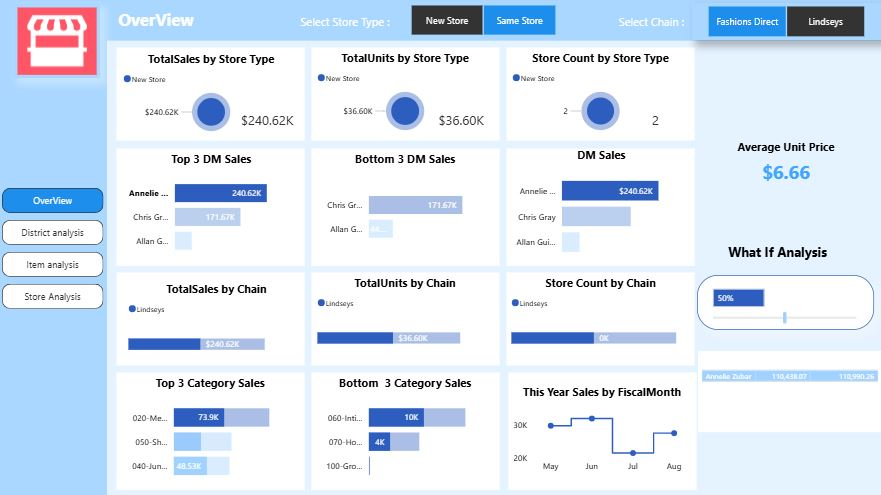

The dashboard page shown, as its layout file describes it:
{"tool":"powerbi","page":{"name":"OverView","canvas":[1280,720],"ordinal":0},"visuals":[{"type":"actionButton","box":[146.3,0,161.3,57.6],"z":0,"group":"g1"},{"type":"shape","box":[157,0,1674.7,60.5],"z":0},{"type":"shape","box":[0,0,157,1399.7],"z":1000},{"type":"group","id":"g1","title":"Group 5","box":[146.3,0,161.2,56.7],"z":2000},{"type":"image","box":[165.6,65.4,280.6,144.2],"z":3000},{"type":"image","box":[446.2,65.4,280.6,144.2],"z":4000},{"type":"image","box":[726.8,65.4,280.6,144.2],"z":5000},{"type":"image","box":[165.6,388.7,280.6,144.2],"z":6000},{"type":"image","box":[446.2,388.7,280.6,144.2],"z":7000},{"type":"image","box":[726.8,388.7,280.6,144.2],"z":8000},{"type":"pieChart","fields":{"Y":["Sales.TotalSales"],"Category":["Store.Store Type"]},"box":[175.8,74.4,262.5,127.3],"z":9000},{"type":"card","fields":{"Values":["Sales.TotalSales"]},"box":[336.9,149.9,101.4,51.8],"z":10000},{"type":"pieChart","fields":{"Category":["Store.Store Type"],"Y":["Sales.TotalUnits"]},"box":[455.2,73.2,262.5,127.3],"z":11000},{"type":"card","fields":{"Values":["Sales.TotalUnits"]},"box":[616.3,149.9,101.4,51.8],"z":12000},{"type":"pieChart","fields":{"Category":["Store.Store Type"],"Y":["Sales.Store Count"]},"box":[735.8,73.2,263.7,127.3],"z":13000},{"type":"image","box":[165.6,209.6,280.6,179.2],"z":14000},{"type":"image","box":[165.6,533,280.6,179.2],"z":15000},{"type":"image","box":[446.2,209.6,280.6,179.2],"z":16000},{"type":"image","box":[726.8,209.6,280.6,179.2],"z":17000},{"type":"image","box":[446.2,533,280.6,179.2],"z":18000},{"type":"image","box":[729.9,532.9,280.6,178.6],"z":19000},{"type":"card","fields":{"Values":["Sales.Store Count"]},"box":[894.6,149.9,104.8,51.8],"z":20000},{"type":"clusteredBarChart","title":"Top 3 DM Sales","fields":{"Category":["District.DM"],"Y":["Sales.Top 5 Sales"]},"box":[175.8,218.6,262.5,162.3],"z":21000},{"type":"clusteredBarChart","title":"Bottom 3 DM Sales","fields":{"Category":["District.DM"],"Y":["Sales.Bottom 3 Sales"]},"box":[455.2,218.6,262.5,162.3],"z":22000},{"type":"clusteredBarChart","title":"DM Sales","fields":{"Category":["District.DM"],"Y":["Sales.TotalSales"]},"box":[730.1,213,277.2,172.4],"z":23000},{"type":"barChart","fields":{"Y":["Sales.TotalSales"],"Series":["Store.Chain"]},"box":[182.9,406.1,263.5,126.7],"z":24000},{"type":"barChart","fields":{"Series":["Store.Chain"],"Y":["Sales.TotalUnits"]},"box":[455.2,397.7,262.5,126.2],"z":25000},{"type":"barChart","fields":{"Series":["Store.Chain"],"Y":["Sales.Store Count"]},"box":[735,397.7,267,126.2],"z":26000},{"type":"clusteredBarChart","title":"Top 3 Category Sales","fields":{"Category":["Item.Category"],"Y":["Sales.Top 3 Category Sales"]},"box":[174.6,540.8,262.5,164.5],"z":27000},{"type":"clusteredBarChart","title":"Bottom  3 Category Sales","fields":{"Category":["Item.Category"],"Y":["Sales.Bottom 3 Category Sales"]},"box":[455.2,540.8,262.5,164.5],"z":28000},{"type":"card","title":"Average Unit Price","fields":{"Values":["Sales.Average Unit Price"]},"box":[1008,201.6,253.4,74.9],"z":29000},{"type":"slicer","fields":{"Values":["What If.What If"]},"box":[1006.6,397.4,254.9,79.2],"z":30000},{"type":"tableEx","fields":{"Values":["District.DM","Sales.This Year Sales","What If.Predicted Revenue"]},"box":[1008,506.9,272.2,116.6],"z":31000},{"type":"textbox","box":[995,347,254.9,59],"z":32000},{"type":"slicer","fields":{"Values":["Store.Chain"]},"box":[999.4,5.8,272.2,53.3],"z":33000},{"type":"textbox","box":[810.7,17.3,260.6,41.8],"z":34000},{"type":"textbox","box":[360,17.3,279.4,47.5],"z":35000},{"type":"slicer","fields":{"Values":["Store.Store Type"]},"box":[571.7,4.3,254.9,51.8],"z":36000},{"type":"lineChart","fields":{"Category":["select"],"Y":["select2"]},"box":[737,554.2,265,136.1],"z":37000},{"type":"pageNavigator","box":[5.8,272.2,146.9,175.7],"z":38000},{"type":"image","box":[23,7.2,123.8,106.6],"z":39000}]}

Visuals, with their boxes on the page's 1280x720 design canvas (x1, y1, x2, y2). These are canvas units, not pixel positions in the 881x495 screenshot, which may show the page scaled, cropped or inside an application window:
actionButton: (146, 0, 308, 58)
shape: (157, 0, 1832, 60)
shape: (0, 0, 157, 1400)
"Group 5" group: (146, 0, 308, 57)
image: (166, 65, 446, 210)
image: (446, 65, 727, 210)
image: (727, 65, 1007, 210)
image: (166, 389, 446, 533)
image: (446, 389, 727, 533)
image: (727, 389, 1007, 533)
pieChart - Sales.TotalSales x Store.Store Type: (176, 74, 438, 202)
card - Sales.TotalSales: (337, 150, 438, 202)
pieChart - Store.Store Type x Sales.TotalUnits: (455, 73, 718, 200)
card - Sales.TotalUnits: (616, 150, 718, 202)
pieChart - Store.Store Type x Sales.Store Count: (736, 73, 1000, 200)
image: (166, 210, 446, 389)
image: (166, 533, 446, 712)
image: (446, 210, 727, 389)
image: (727, 210, 1007, 389)
image: (446, 533, 727, 712)
image: (730, 533, 1010, 712)
card - Sales.Store Count: (895, 150, 999, 202)
"Top 3 DM Sales" clusteredBarChart: (176, 219, 438, 381)
"Bottom 3 DM Sales" clusteredBarChart: (455, 219, 718, 381)
"DM Sales" clusteredBarChart: (730, 213, 1007, 385)
barChart - Sales.TotalSales x Store.Chain: (183, 406, 446, 533)
barChart - Store.Chain x Sales.TotalUnits: (455, 398, 718, 524)
barChart - Store.Chain x Sales.Store Count: (735, 398, 1002, 524)
"Top 3 Category Sales" clusteredBarChart: (175, 541, 437, 705)
"Bottom  3 Category Sales" clusteredBarChart: (455, 541, 718, 705)
"Average Unit Price" card: (1008, 202, 1261, 276)
slicer - What If.What If: (1007, 397, 1262, 477)
tableEx - District.DM x Sales.This Year Sales: (1008, 507, 1280, 624)
textbox: (995, 347, 1250, 406)
slicer - Store.Chain: (999, 6, 1272, 59)
textbox: (811, 17, 1071, 59)
textbox: (360, 17, 639, 65)
slicer - Store.Store Type: (572, 4, 827, 56)
lineChart - select x select2: (737, 554, 1002, 690)
pageNavigator: (6, 272, 153, 448)
image: (23, 7, 147, 114)
